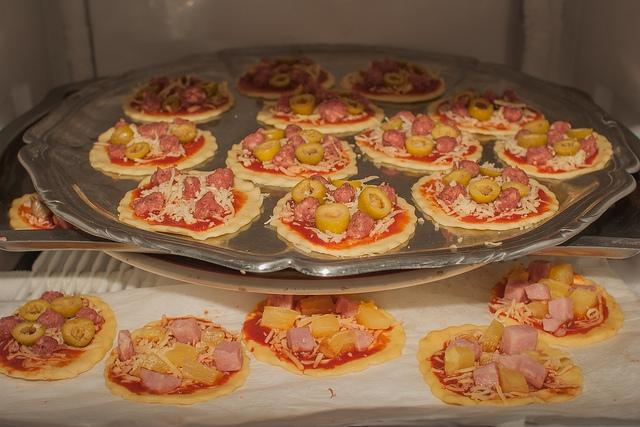pineapple: (530, 366, 583, 404), (182, 356, 224, 386), (164, 342, 207, 367), (354, 300, 391, 329), (130, 352, 170, 376), (444, 346, 475, 376), (498, 364, 529, 394), (260, 306, 298, 330), (570, 287, 598, 319), (298, 295, 336, 317), (480, 318, 504, 352), (326, 330, 356, 356), (536, 278, 571, 300), (311, 314, 339, 338), (550, 264, 574, 286), (140, 326, 166, 344)
